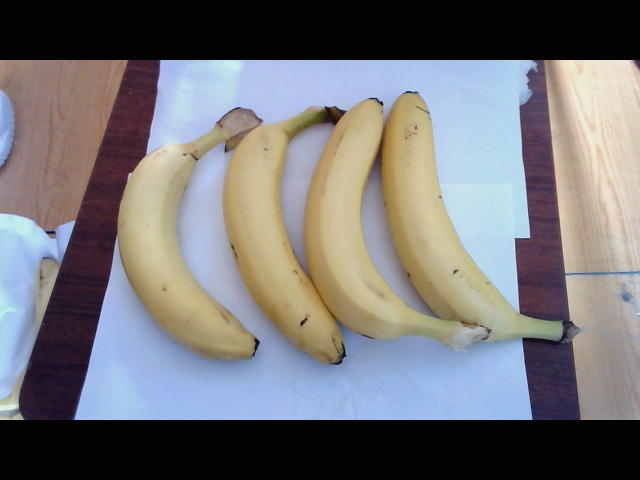banana: (392, 86, 575, 345), (215, 104, 325, 363), (119, 118, 223, 363), (315, 94, 404, 348)
